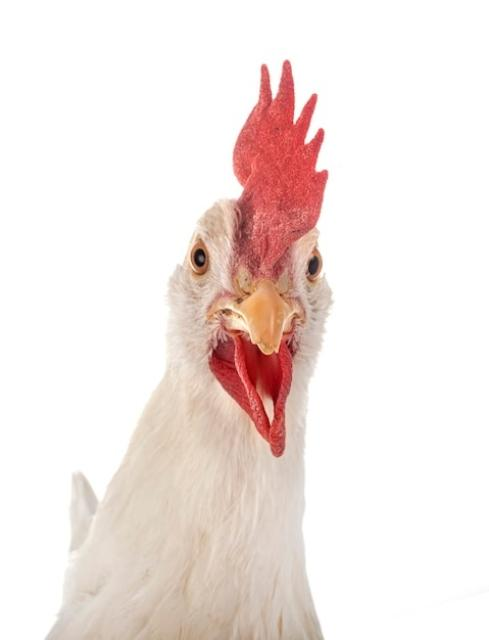Chicken: (48, 58, 336, 640)
